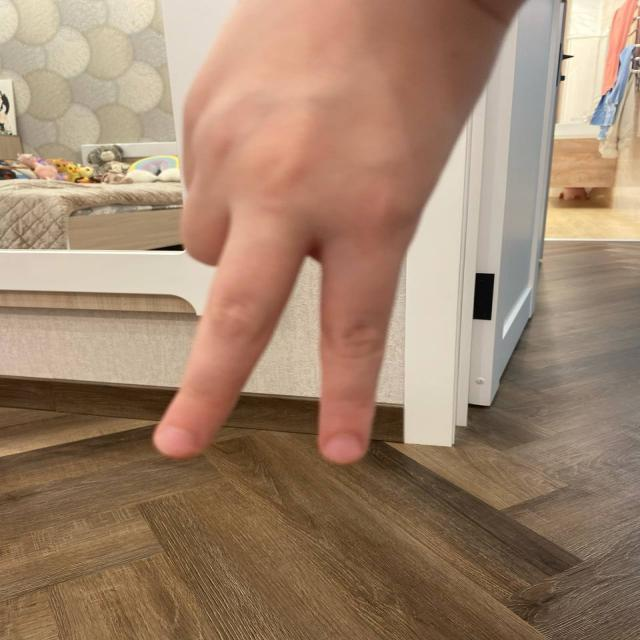l: (162, 42, 429, 473)
